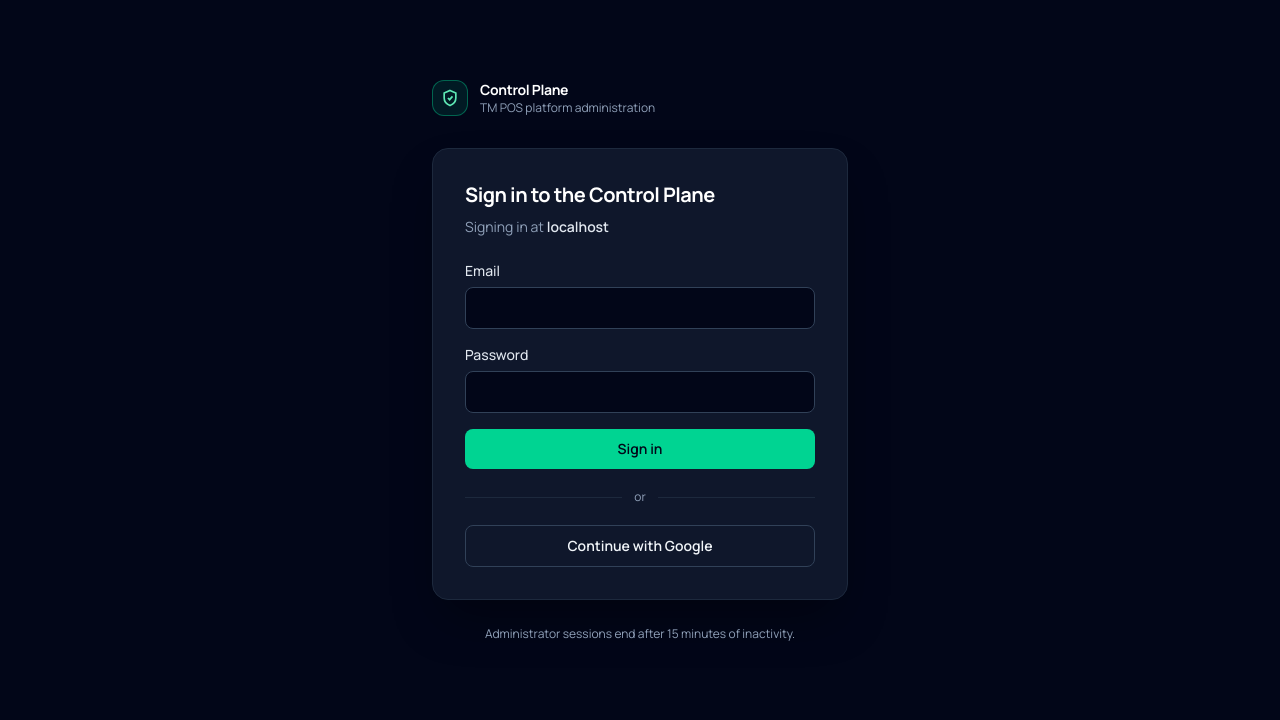
Scenario: console sign-in › exchanges the provider token for a server session and shows the shell only once the server confirms it
The width and height of the screenshot is (1280, 720).
Type "ops@tmpos.test" into the field labelled "Email". click: [640, 308]
box: left=465, top=287, right=815, bottom=329
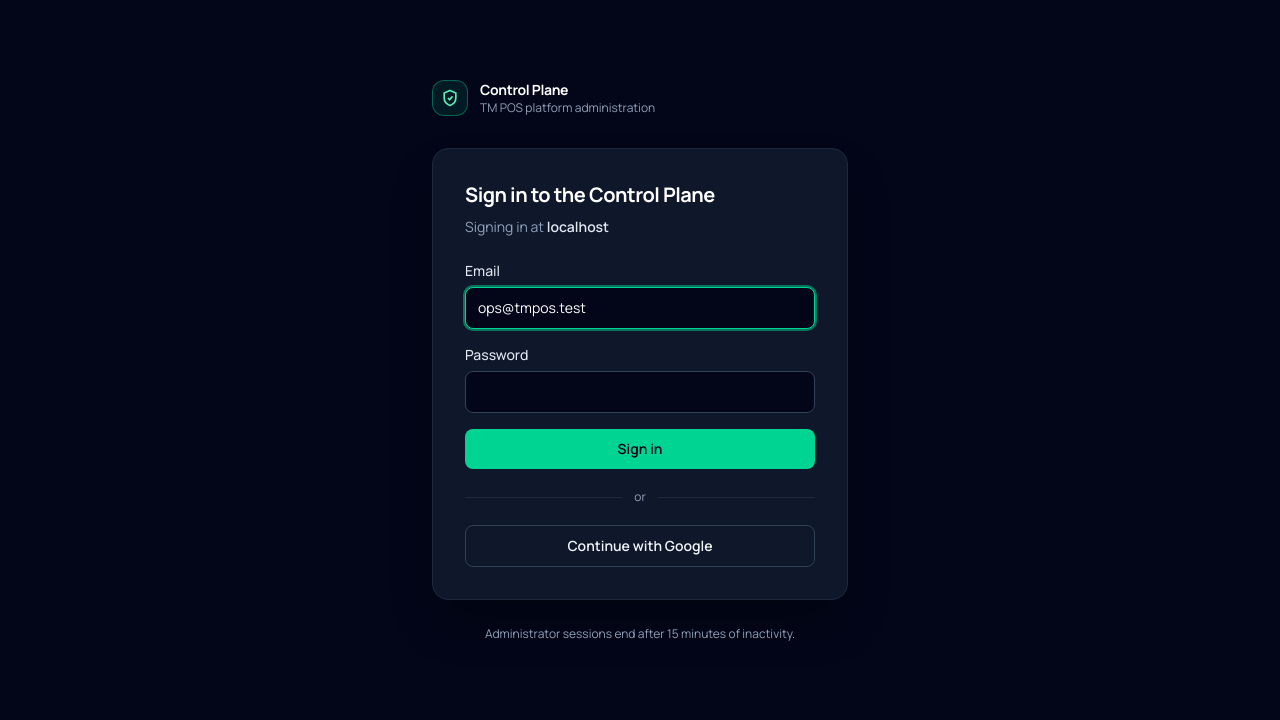
Type "correct horse" into the password field labelled "Password". click: [640, 392]
box: left=465, top=371, right=815, bottom=413
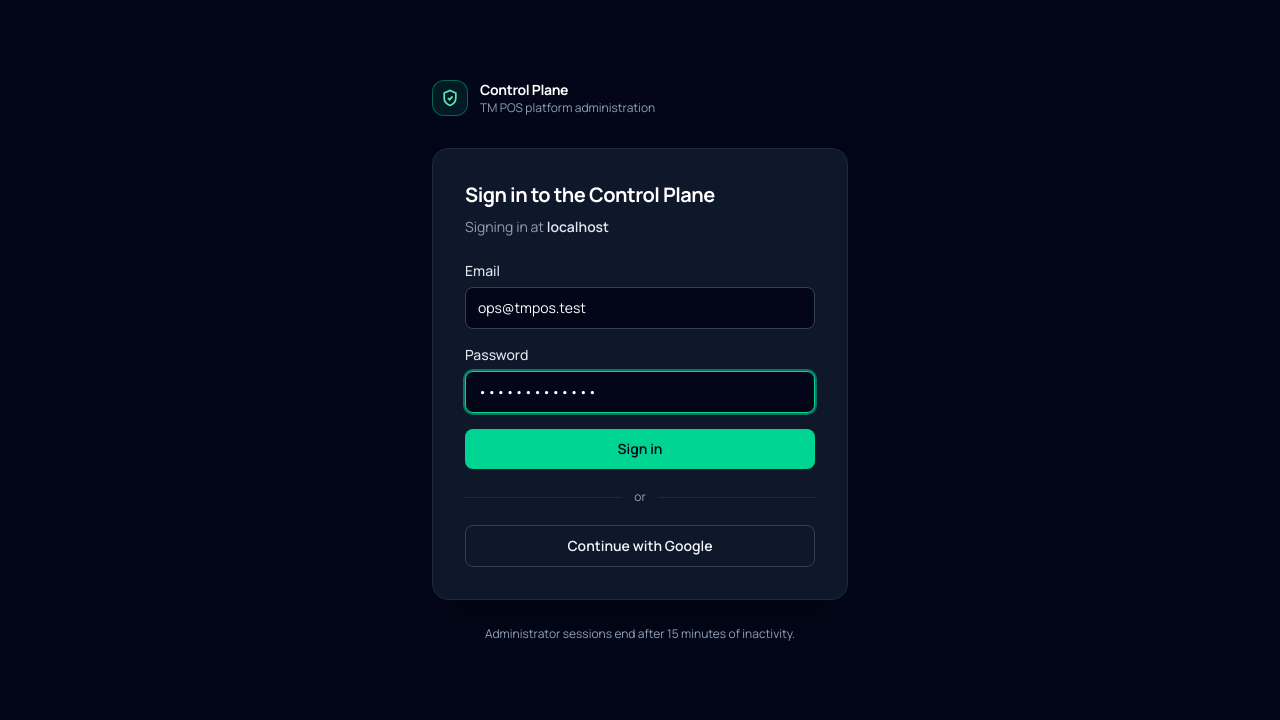
Click the button "Sign in". click: [640, 449]
box: left=465, top=429, right=815, bottom=469
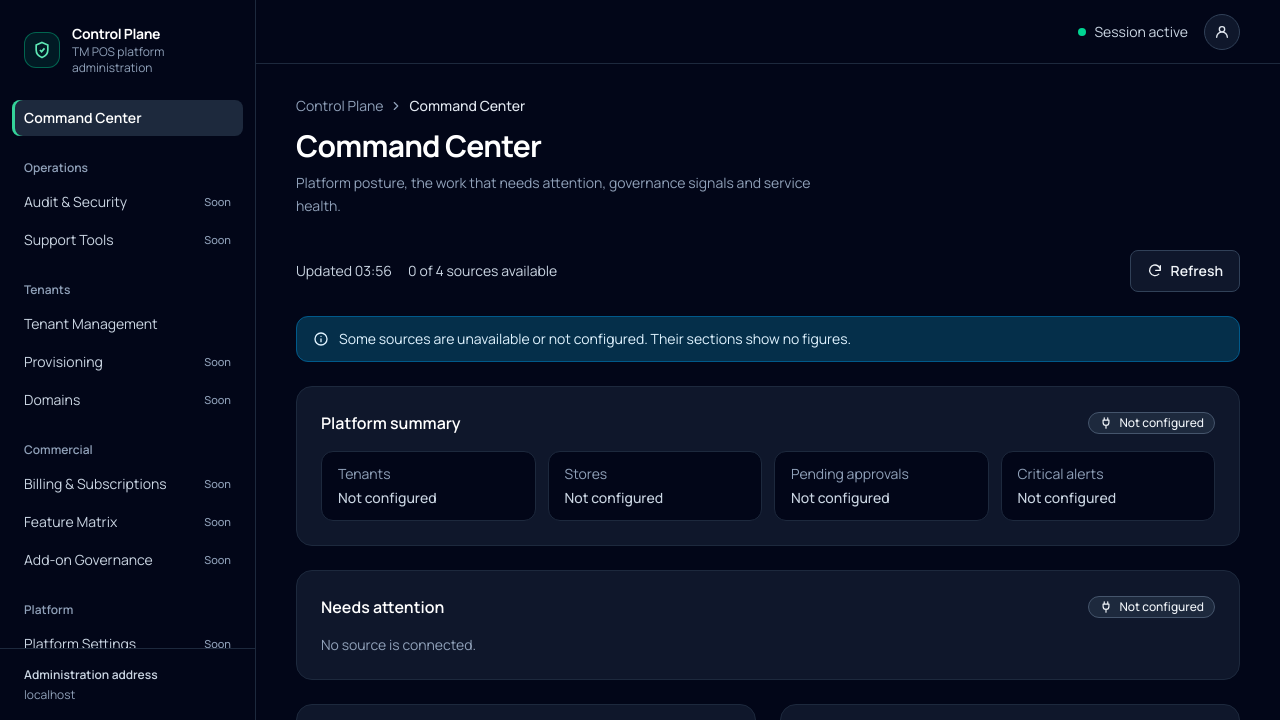
expect the heading "Command Center" is shown: met, box left=296, top=125, right=541, bottom=166
